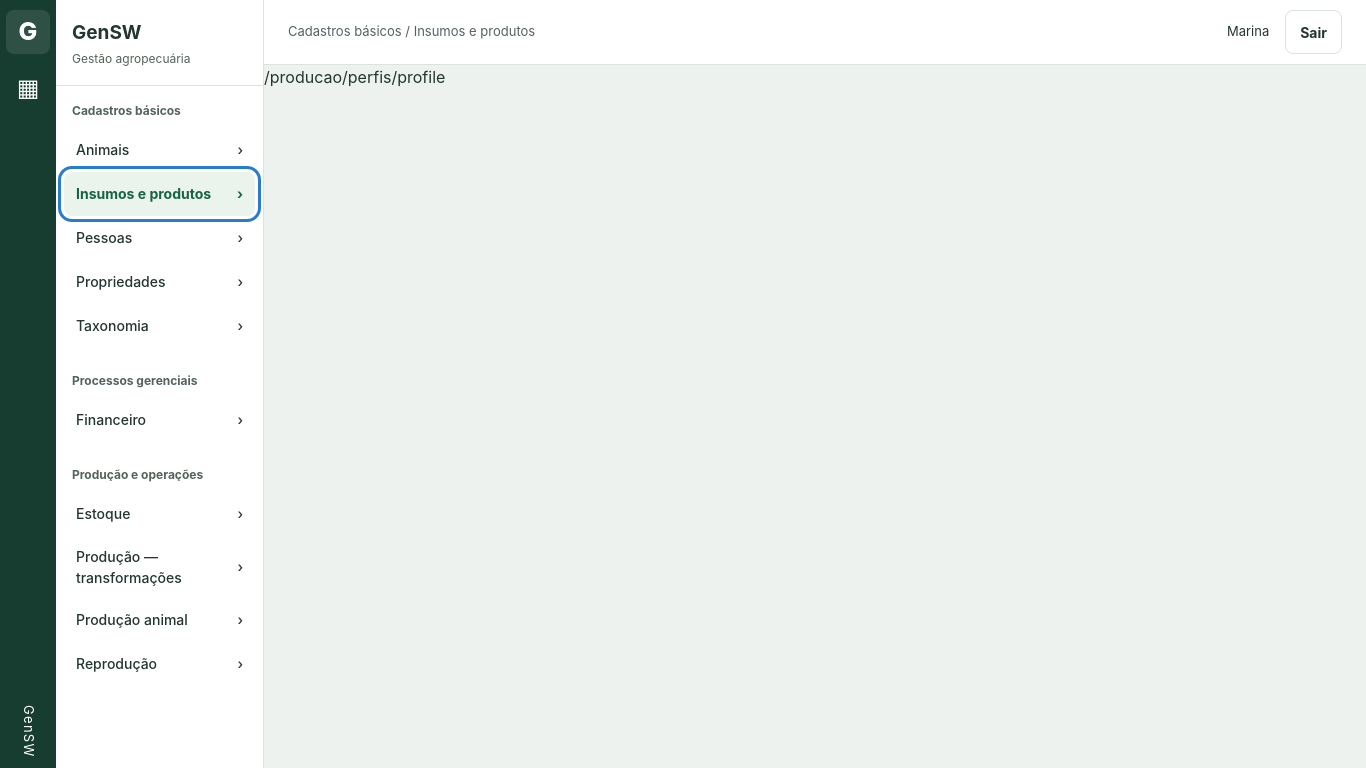
Test: AppShell A › abre páginas alfabeticamente, indica o catálogo para um perfil e fecha ao navegar
Click the button "Insumos e produtos ›": (160, 194) left=64, top=172, right=255, bottom=216
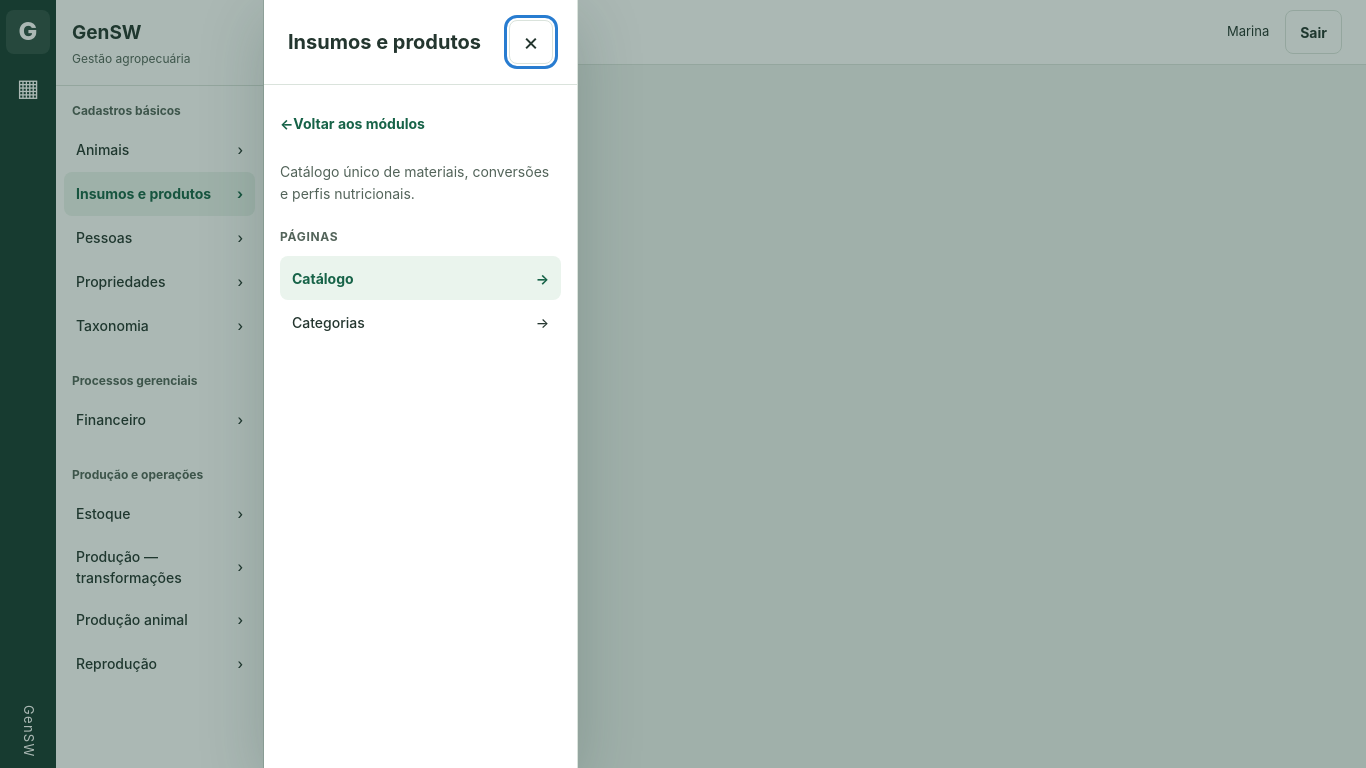
Click the link "Categorias →": (328, 322) left=292, top=314, right=549, bottom=331
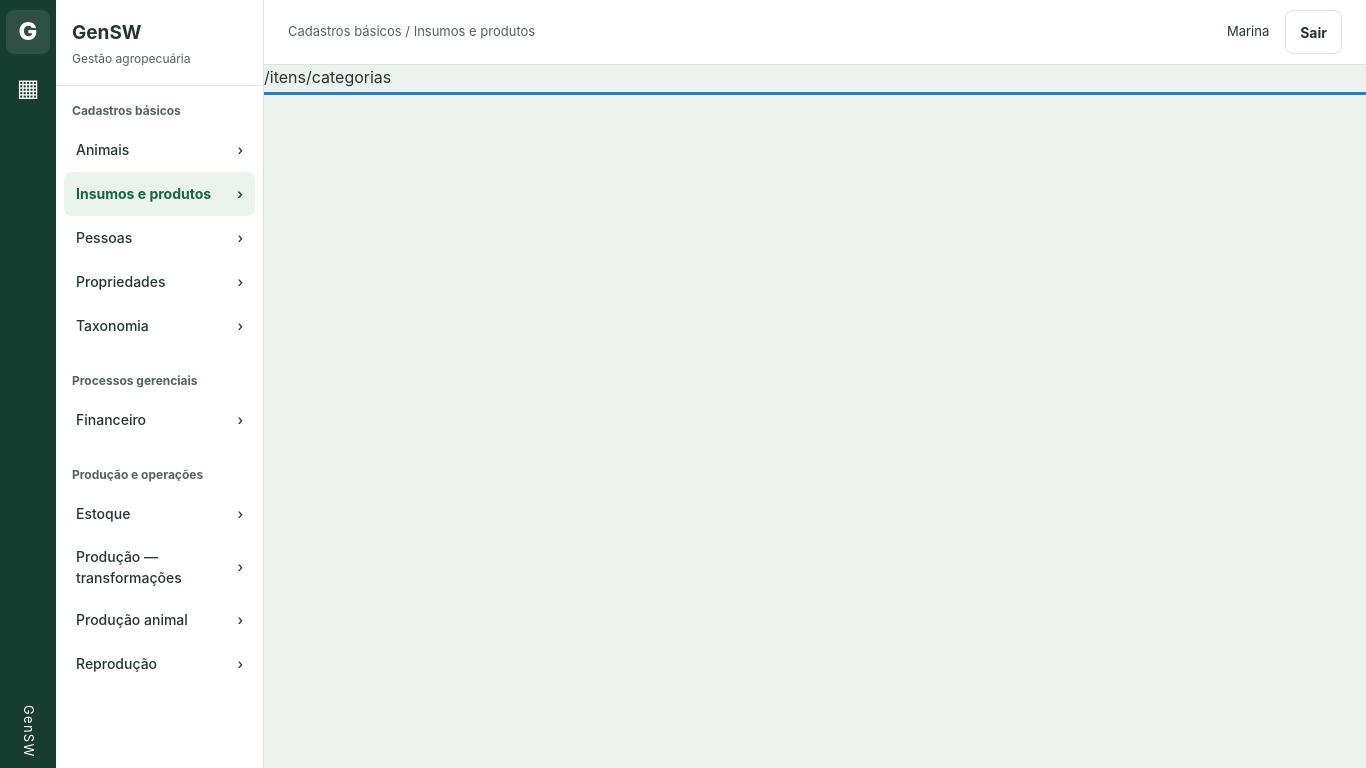
Check: the dialog is gone
Check: the heading "/itens/categorias" is shown, box left=264, top=67, right=391, bottom=87
